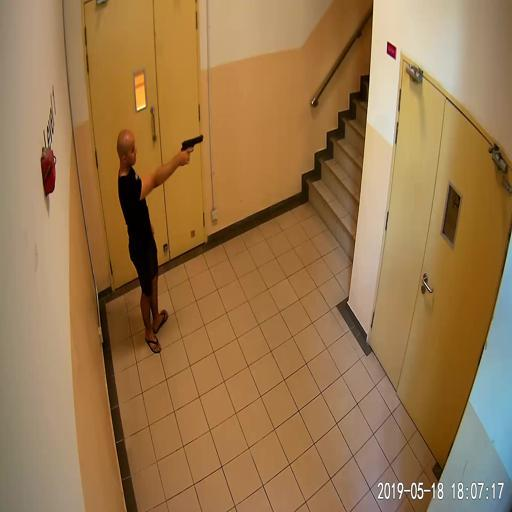Handgun: (178, 133, 202, 165)
